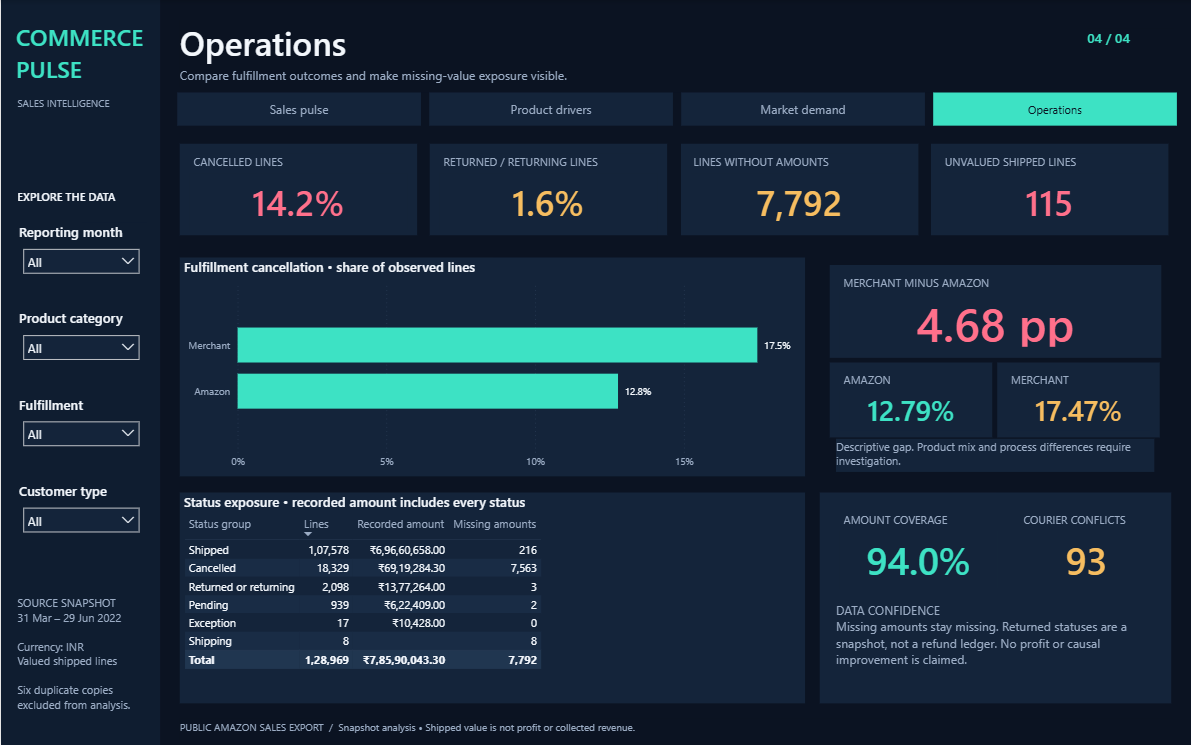

The page's visual inventory and layout, read from the dashboard file:
{"tool":"powerbi","page":{"name":"Operations","canvas":[1440,900],"ordinal":3},"visuals":[{"type":"textbox","box":[0,0,192,900],"z":0},{"type":"textbox","box":[216,174,286,110],"z":1},{"type":"textbox","box":[518,174,286,110],"z":1},{"type":"textbox","box":[820,174,286,110],"z":1},{"type":"textbox","box":[1122,174,286,110],"z":1},{"type":"textbox","box":[1000,320,400,112],"z":1},{"type":"textbox","box":[1000,437,196,90],"z":1},{"type":"textbox","box":[1202,437,196,90],"z":1},{"type":"textbox","box":[988,594,424,254],"z":1},{"type":"textbox","box":[1000,606,214,112],"z":1},{"type":"textbox","box":[1218,606,182,112],"z":1},{"type":"pageNavigator","box":[212,112,1208,40],"z":10},{"type":"card","fields":{"Values":["Sales.Cancelled Line Rate"]},"box":[228,209,262,67],"z":10},{"type":"card","fields":{"Values":["Sales.Returned Line Rate"]},"box":[530,209,262,67],"z":10},{"type":"card","fields":{"Values":["Sales.Missing Amount Lines"]},"box":[832,209,262,67],"z":10},{"type":"card","fields":{"Values":["Sales.Unvalued Shipped Lines"]},"box":[1134,209,262,67],"z":10},{"type":"slicer","title":"Reporting month","fields":{"Values":["Date.month_label"]},"box":[16,268,160,88],"z":10},{"type":"clusteredBarChart","title":"Fulfillment cancellation • share of observed lines","fields":{"Category":["Sales.fulfillment"],"Y":["Sales.Cancelled Line Rate"]},"box":[216,310,754,264],"z":10},{"type":"card","fields":{"Values":["Sales.Fulfillment Gap (pp)"]},"box":[1012,355,376,69],"z":10},{"type":"slicer","title":"Product category","fields":{"Values":["Product.category"]},"box":[16,372,160,88],"z":10},{"type":"card","fields":{"Values":["Sales.Amazon Cancel Rate"]},"box":[1012,472,172,47],"z":10},{"type":"card","fields":{"Values":["Sales.Merchant Cancel Rate"]},"box":[1214,472,172,47],"z":10},{"type":"slicer","title":"Fulfillment","fields":{"Values":["Sales.fulfillment"]},"box":[16,476,160,88],"z":10},{"type":"slicer","title":"Customer type","fields":{"Values":["Sales.Customer Segment"]},"box":[16,580,160,88],"z":10},{"type":"tableEx","title":"Status exposure • recorded amount includes every status","fields":{"Values":["Status.status_group","Sales.Observed Lines","Sales.Recorded Amount","Sales.Missing Amount Lines"]},"box":[216,594,754,254],"z":10},{"type":"card","fields":{"Values":["Sales.Amount Coverage"]},"box":[1012,641,190,69],"z":10},{"type":"card","fields":{"Values":["Sales.Courier Conflict Lines"]},"box":[1230,641,158,69],"z":10},{"type":"textbox","box":[216,24,760,54],"z":20},{"type":"textbox","box":[18,26,158,86],"z":20},{"type":"textbox","box":[1310,34,104,34],"z":20},{"type":"textbox","box":[216,80,960,26],"z":20},{"type":"textbox","box":[20,114,152,28],"z":20},{"type":"textbox","box":[232,186,254,23],"z":20},{"type":"textbox","box":[534,186,254,23],"z":20},{"type":"textbox","box":[836,186,254,23],"z":20},{"type":"textbox","box":[1138,186,254,23],"z":20},{"type":"textbox","box":[20,228,152,28],"z":20},{"type":"textbox","box":[1016,332,368,23],"z":20},{"type":"textbox","box":[1016,449,164,23],"z":20},{"type":"textbox","box":[1218,449,164,23],"z":20},{"type":"textbox","box":[1008,530,384,40],"z":20},{"type":"textbox","box":[1016,618,182,23],"z":20},{"type":"textbox","box":[1234,618,150,23],"z":20},{"type":"textbox","box":[20,718,152,150],"z":20},{"type":"textbox","box":[1008,726,384,100],"z":20},{"type":"textbox","box":[216,867,1198,26],"z":20}]}

Visuals, with their boxes in screenshot pixels (x1, y1, x2, y2), scaled from the page's 1440x900 canvas onto the 1191x745 screenshot:
textbox: {"x1": 0, "y1": 0, "x2": 159, "y2": 744}
textbox: {"x1": 179, "y1": 144, "x2": 415, "y2": 235}
textbox: {"x1": 428, "y1": 144, "x2": 665, "y2": 235}
textbox: {"x1": 678, "y1": 144, "x2": 915, "y2": 235}
textbox: {"x1": 928, "y1": 144, "x2": 1165, "y2": 235}
textbox: {"x1": 827, "y1": 265, "x2": 1158, "y2": 358}
textbox: {"x1": 827, "y1": 362, "x2": 989, "y2": 436}
textbox: {"x1": 994, "y1": 362, "x2": 1156, "y2": 436}
textbox: {"x1": 817, "y1": 492, "x2": 1168, "y2": 702}
textbox: {"x1": 827, "y1": 502, "x2": 1004, "y2": 594}
textbox: {"x1": 1007, "y1": 502, "x2": 1158, "y2": 594}
pageNavigator: {"x1": 175, "y1": 93, "x2": 1174, "y2": 126}
card - Sales.Cancelled Line Rate: {"x1": 189, "y1": 173, "x2": 405, "y2": 228}
card - Sales.Returned Line Rate: {"x1": 438, "y1": 173, "x2": 655, "y2": 228}
card - Sales.Missing Amount Lines: {"x1": 688, "y1": 173, "x2": 905, "y2": 228}
card - Sales.Unvalued Shipped Lines: {"x1": 938, "y1": 173, "x2": 1155, "y2": 228}
"Reporting month" slicer: {"x1": 13, "y1": 222, "x2": 146, "y2": 295}
"Fulfillment cancellation • share of observed lines" clusteredBarChart: {"x1": 179, "y1": 257, "x2": 802, "y2": 475}
card - Sales.Fulfillment Gap (pp): {"x1": 837, "y1": 294, "x2": 1148, "y2": 351}
"Product category" slicer: {"x1": 13, "y1": 308, "x2": 146, "y2": 381}
card - Sales.Amazon Cancel Rate: {"x1": 837, "y1": 391, "x2": 979, "y2": 430}
card - Sales.Merchant Cancel Rate: {"x1": 1004, "y1": 391, "x2": 1146, "y2": 430}
"Fulfillment" slicer: {"x1": 13, "y1": 394, "x2": 146, "y2": 467}
"Customer type" slicer: {"x1": 13, "y1": 480, "x2": 146, "y2": 553}
"Status exposure • recorded amount includes every status" tableEx: {"x1": 179, "y1": 492, "x2": 802, "y2": 702}
card - Sales.Amount Coverage: {"x1": 837, "y1": 531, "x2": 994, "y2": 588}
card - Sales.Courier Conflict Lines: {"x1": 1017, "y1": 531, "x2": 1148, "y2": 588}
textbox: {"x1": 179, "y1": 20, "x2": 807, "y2": 65}
textbox: {"x1": 15, "y1": 22, "x2": 146, "y2": 93}
textbox: {"x1": 1083, "y1": 28, "x2": 1169, "y2": 56}
textbox: {"x1": 179, "y1": 66, "x2": 973, "y2": 88}
textbox: {"x1": 17, "y1": 94, "x2": 142, "y2": 118}
textbox: {"x1": 192, "y1": 154, "x2": 402, "y2": 173}
textbox: {"x1": 442, "y1": 154, "x2": 652, "y2": 173}
textbox: {"x1": 691, "y1": 154, "x2": 902, "y2": 173}
textbox: {"x1": 941, "y1": 154, "x2": 1151, "y2": 173}
textbox: {"x1": 17, "y1": 189, "x2": 142, "y2": 212}
textbox: {"x1": 840, "y1": 275, "x2": 1145, "y2": 294}
textbox: {"x1": 840, "y1": 372, "x2": 976, "y2": 391}
textbox: {"x1": 1007, "y1": 372, "x2": 1143, "y2": 391}
textbox: {"x1": 834, "y1": 439, "x2": 1151, "y2": 472}
textbox: {"x1": 840, "y1": 512, "x2": 991, "y2": 531}
textbox: {"x1": 1021, "y1": 512, "x2": 1145, "y2": 531}
textbox: {"x1": 17, "y1": 594, "x2": 142, "y2": 719}
textbox: {"x1": 834, "y1": 601, "x2": 1151, "y2": 684}
textbox: {"x1": 179, "y1": 718, "x2": 1169, "y2": 739}
